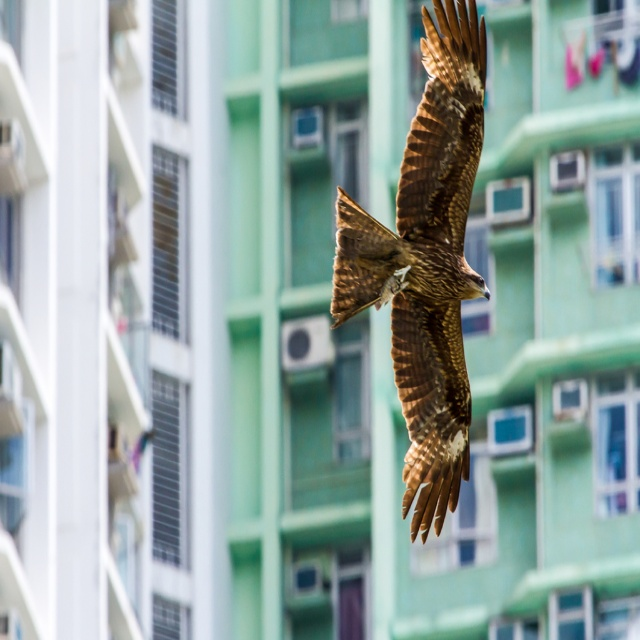Eagle: (329, 0, 488, 551)
